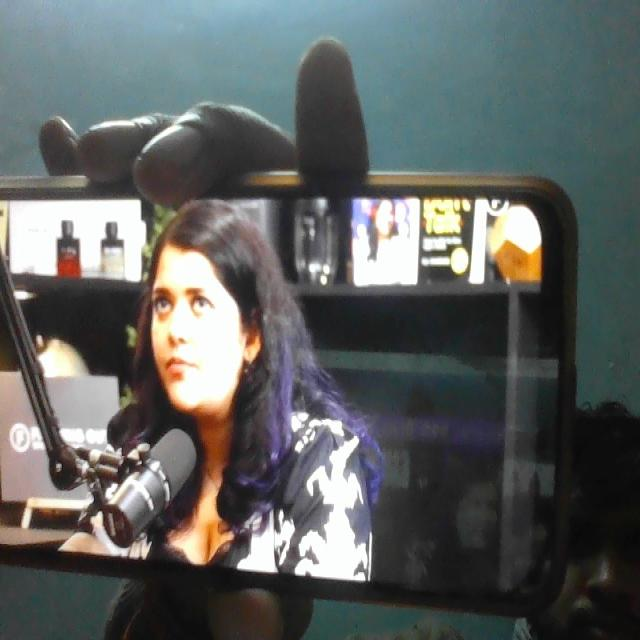fake: (136, 176, 268, 425)
